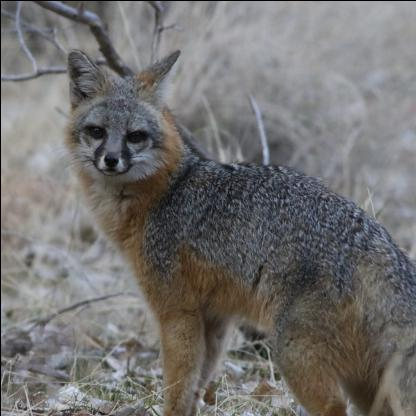zorro: (56, 43, 416, 416)
